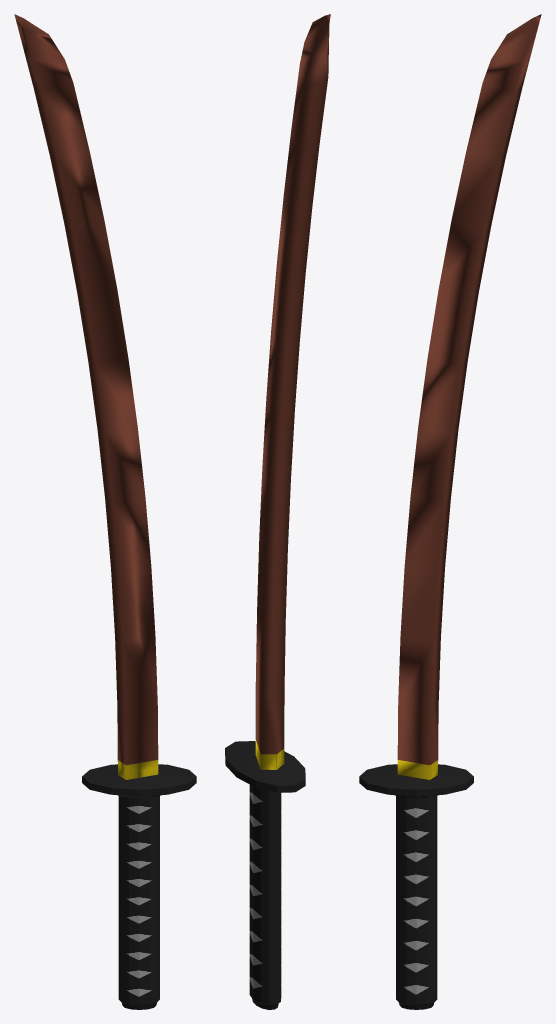
The model's file is bronze_katana.glb.
3 renders of one model, left to right at view 1: azimuth 90°, elevation 25°; view 2: azimuth 210°, elevation 25°; view 3: azimuth 270°, elevation 25°, orthographic. The views are drawn at different scales.
Parts seen in each view (by area): view 1: Bronze Katana; view 2: Bronze Katana; view 3: Bronze Katana.
Part boxes in pixels (x1,y1,x2,y2): Bronze Katana: [14, 14, 196, 1009]; Bronze Katana: [225, 14, 330, 1009]; Bronze Katana: [359, 14, 541, 1009].
Size of the model in its own units: 0.0388 by 0.669 by 0.1115.
2 materials, 1 textured.
